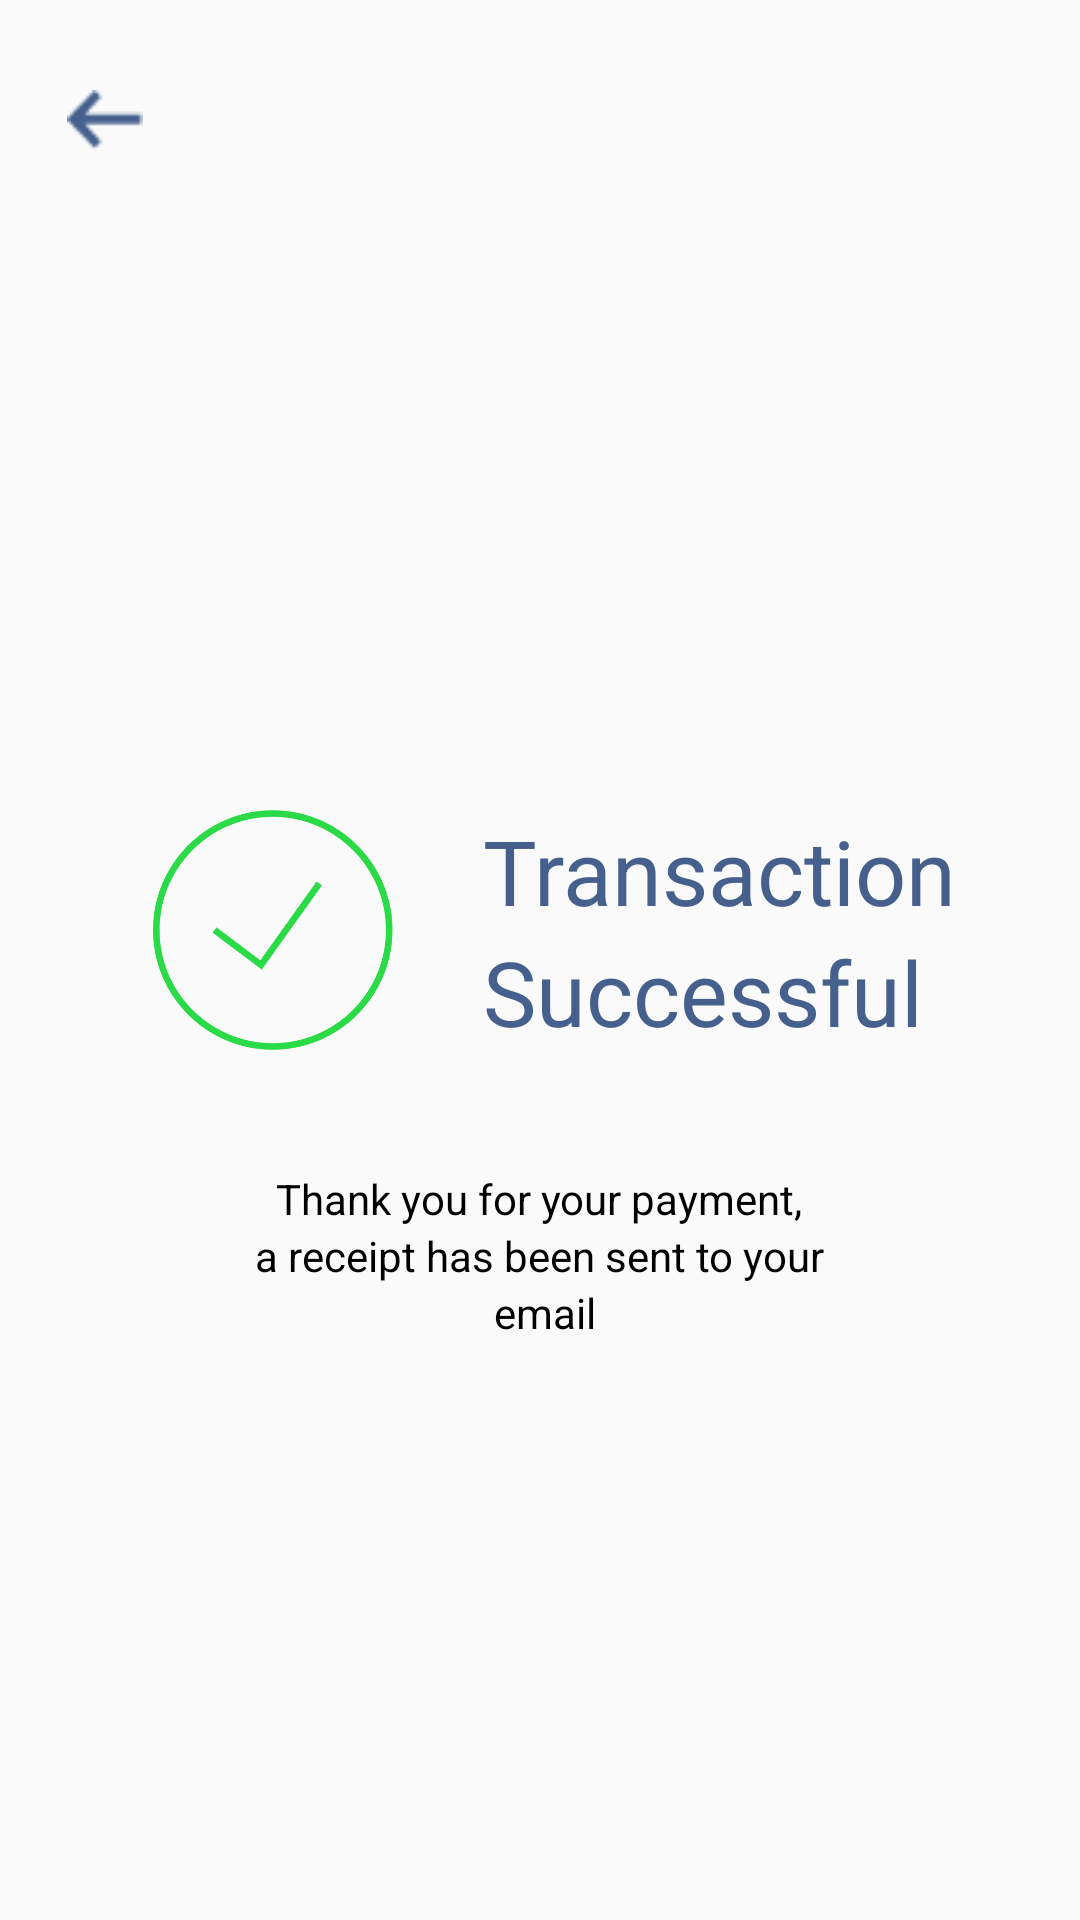

Screen size 1080×1920. Icon name, then its box in pixels as region(x1, y1, x2, y2):
mark: region(153, 810, 393, 1050)
straight arrow: region(67, 90, 143, 148)
